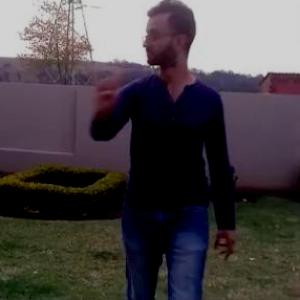takeoff-hand: (84, 55, 125, 109)
